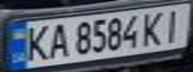4: (121, 12, 145, 50)
5: (90, 16, 109, 53)
8: (72, 18, 93, 56), (106, 16, 127, 52)
A: (45, 20, 72, 60)
I: (157, 6, 190, 44)
K: (21, 21, 51, 62), (139, 8, 169, 47)
